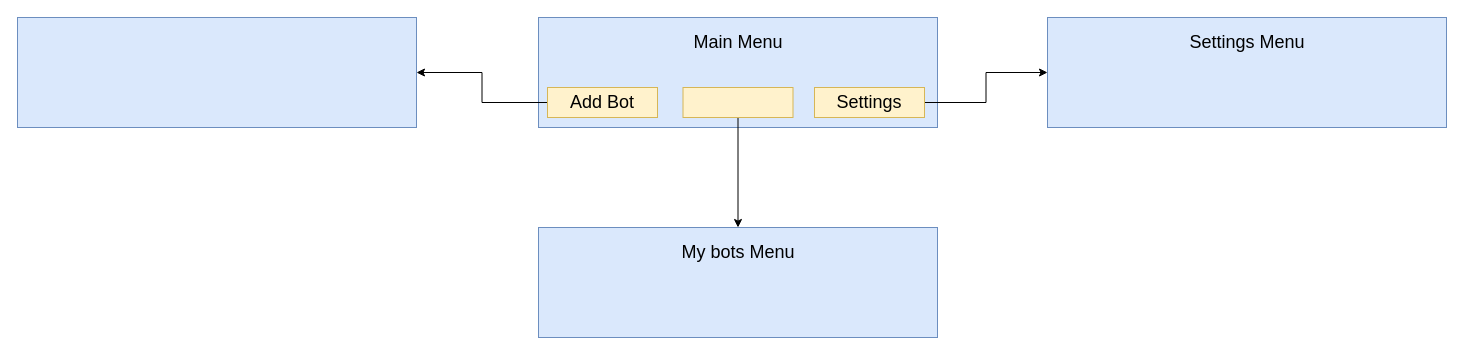
This 1464x355 diagram has some shape labels left out. The shapes that lost their labels are listed below. From the top down, each one's box as (x1, y1, x2, y2) in pixels, then its label:
(16, 16, 416, 128): Add Bot Menu
(682, 86, 793, 118): My Bots
